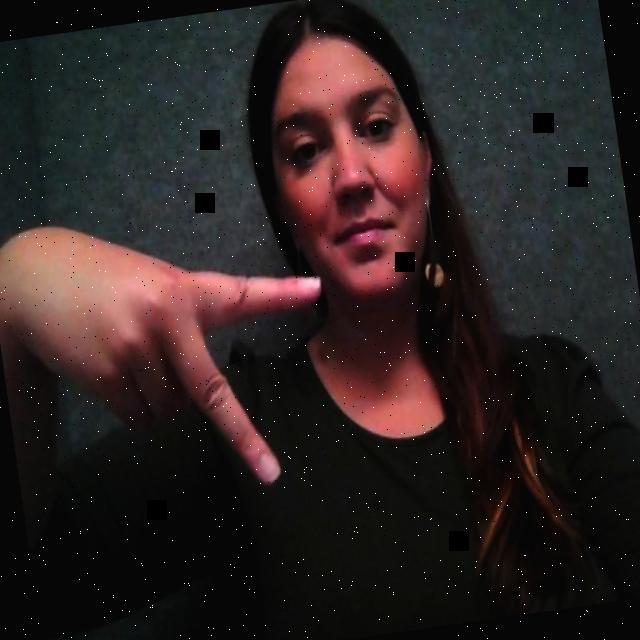Scissors: (0, 191, 357, 510)
